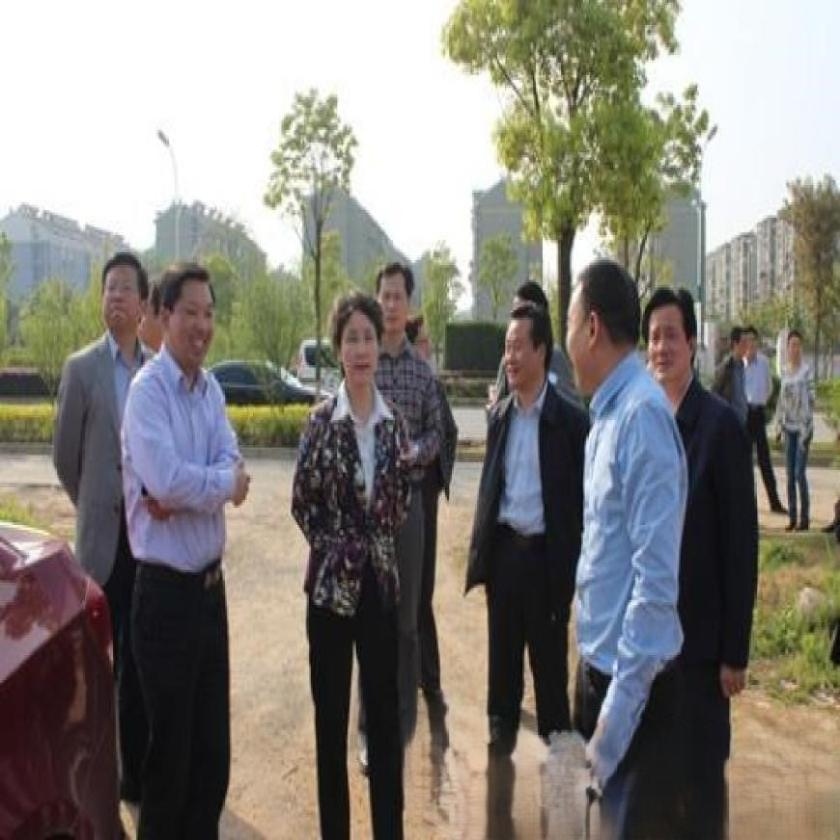Sin_casco: (563, 256, 646, 404), (152, 261, 220, 375), (636, 282, 703, 396), (492, 302, 554, 402), (96, 250, 150, 346), (333, 288, 382, 390), (375, 250, 415, 350)
